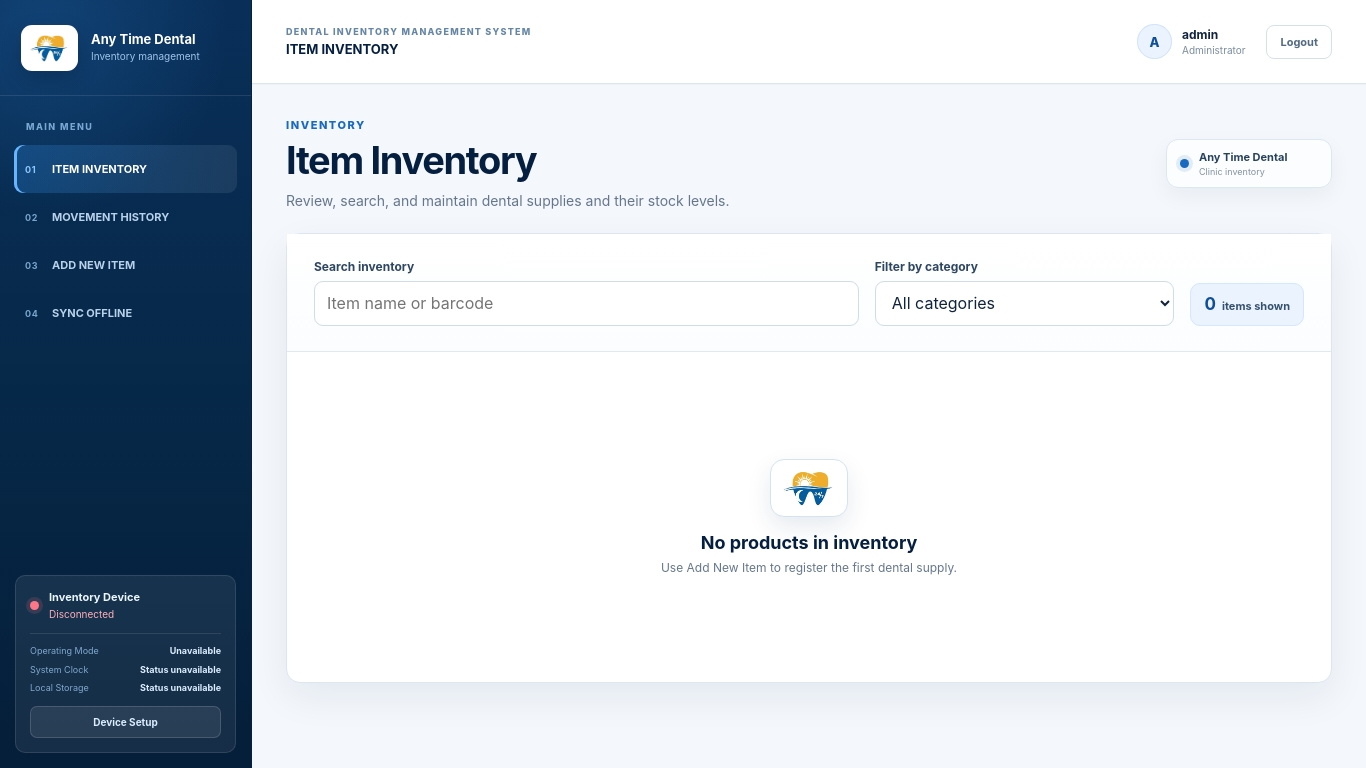
Test case: clinic device setup › uses a USB-discovered Wi-Fi IP only after an explicit click and never auto-saves
What coordinates should you click on to do the following:
click the button "Device Setup"
I would click on:
 (126, 722)
Its box is top-left (30, 706), bottom-right (221, 738).
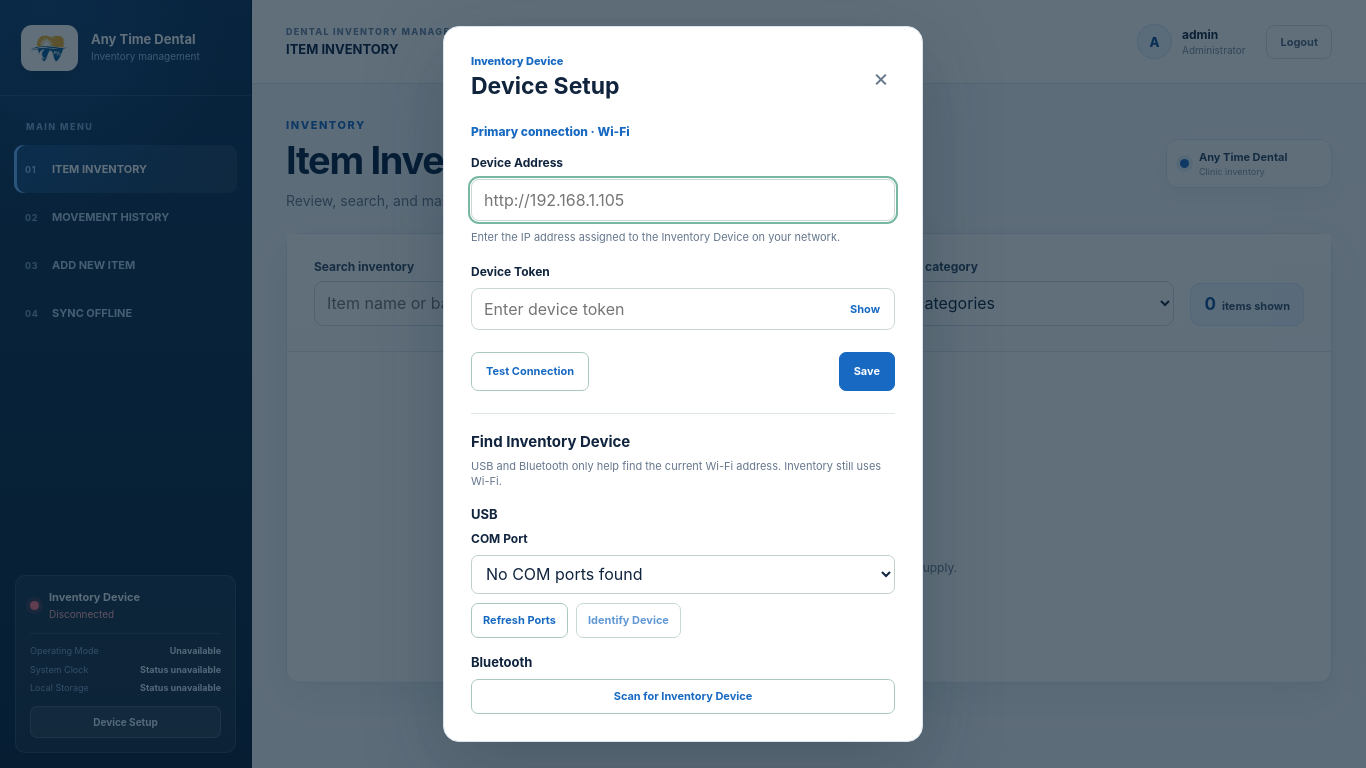
What coordinates should you click on to do the following:
click the button "Refresh Ports"
I would click on:
 (520, 620)
Its box is top-left (471, 603), bottom-right (568, 638).
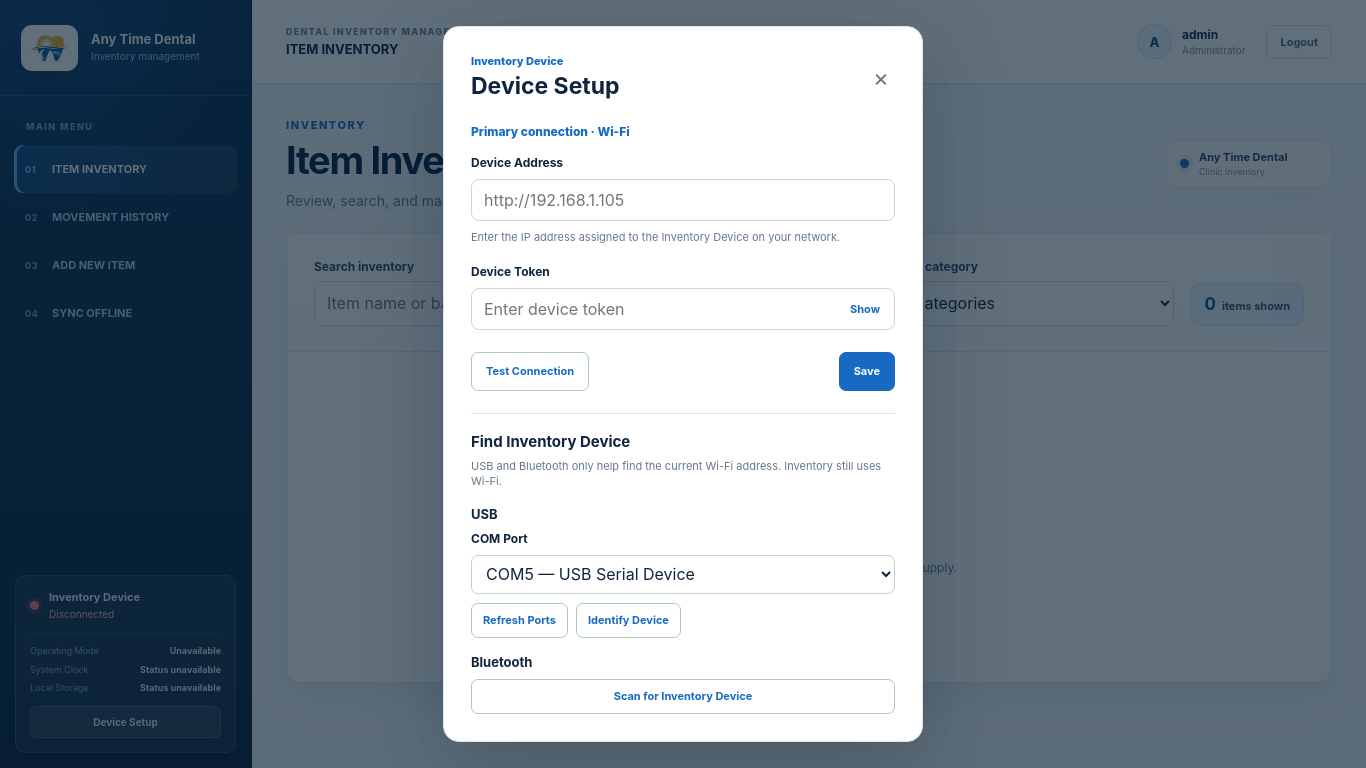
What coordinates should you click on to do the following:
click the button "Identify Device"
I would click on:
 (628, 620)
Its box is top-left (576, 603), bottom-right (681, 638).
(page scrolled)
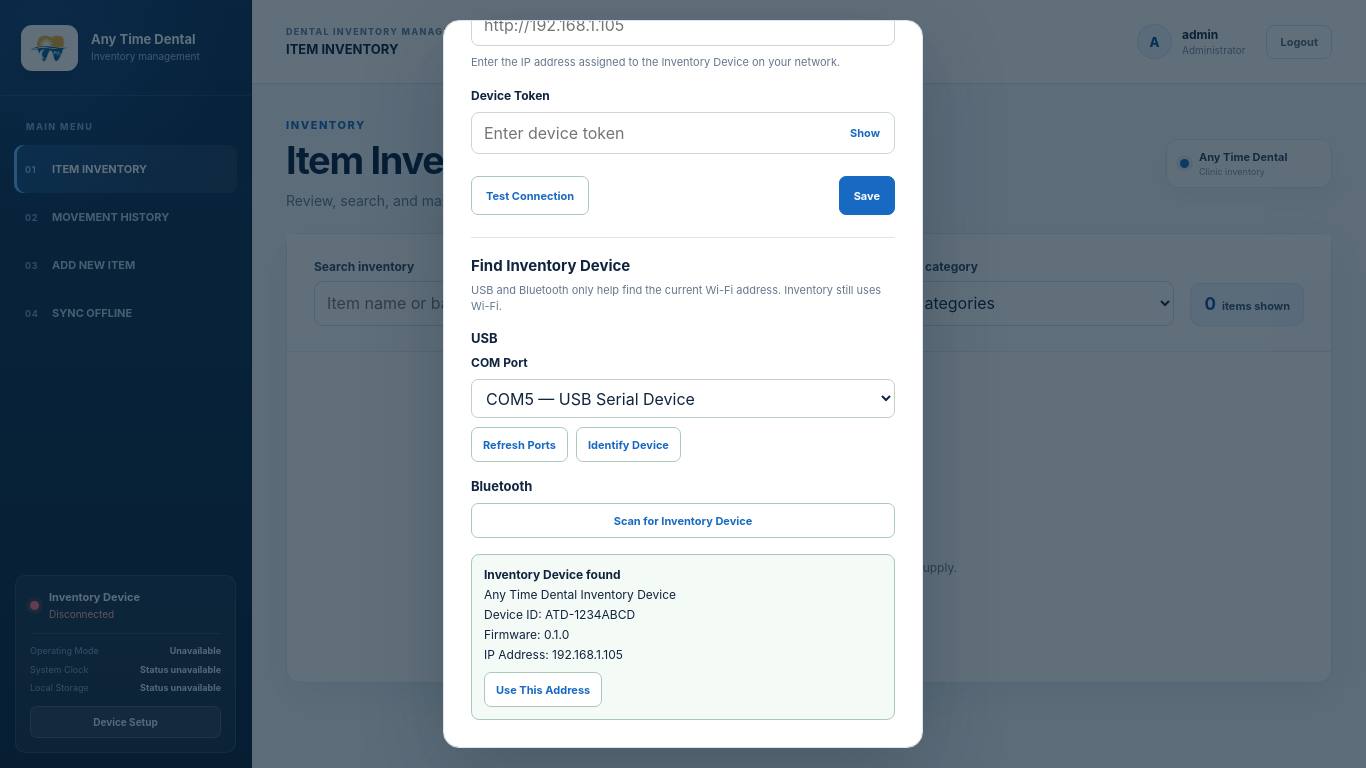
expect the field labelled "Device Address" is empty: met, box top-left (471, 20), bottom-right (895, 46)
expect the text "IP Address: 192.168.1.105" is shown: met, box top-left (484, 647), bottom-right (623, 662)
What coordinates should you click on to do the following:
click the button "Use This Address"
I would click on:
 (543, 690)
Its box is top-left (484, 672), bottom-right (602, 707).
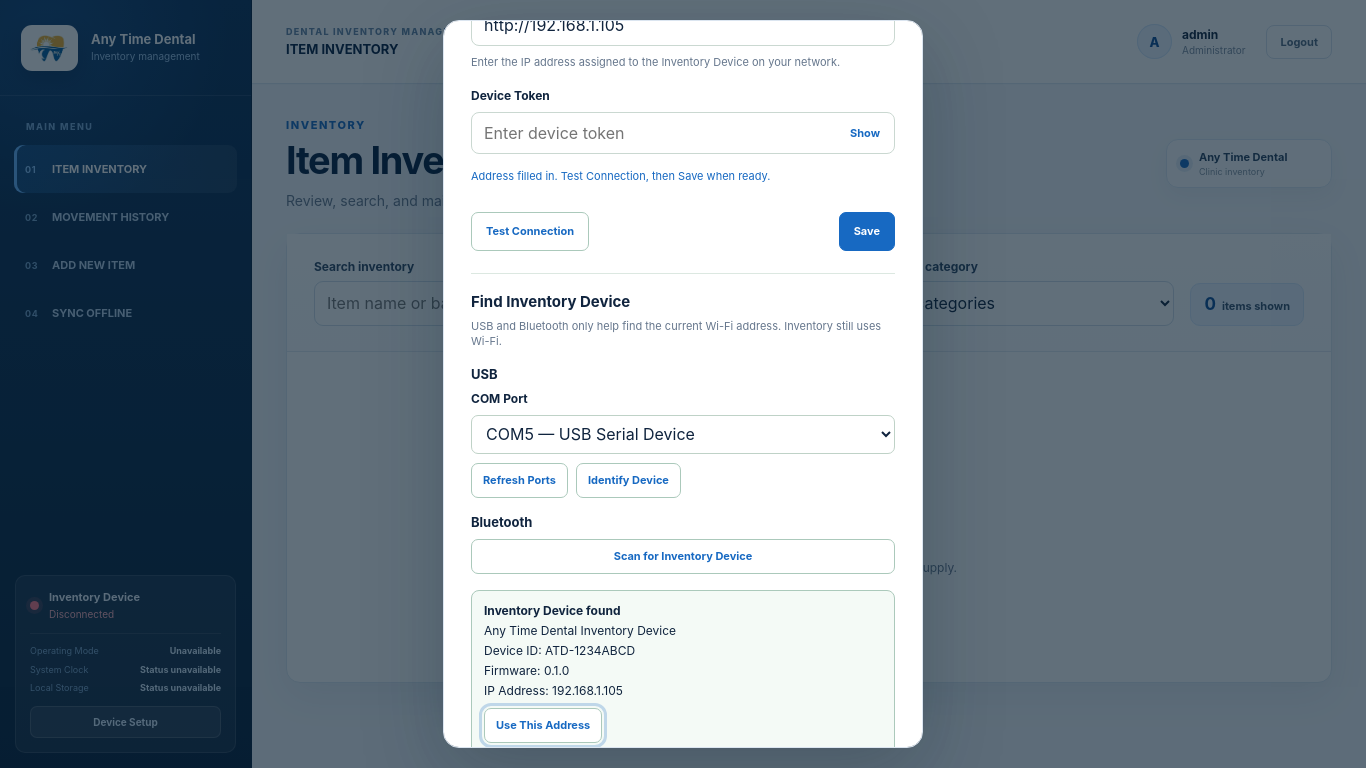
expect the field labelled "Device Address" holds "http://192.168.1.105": met, box top-left (471, 20), bottom-right (895, 46)
